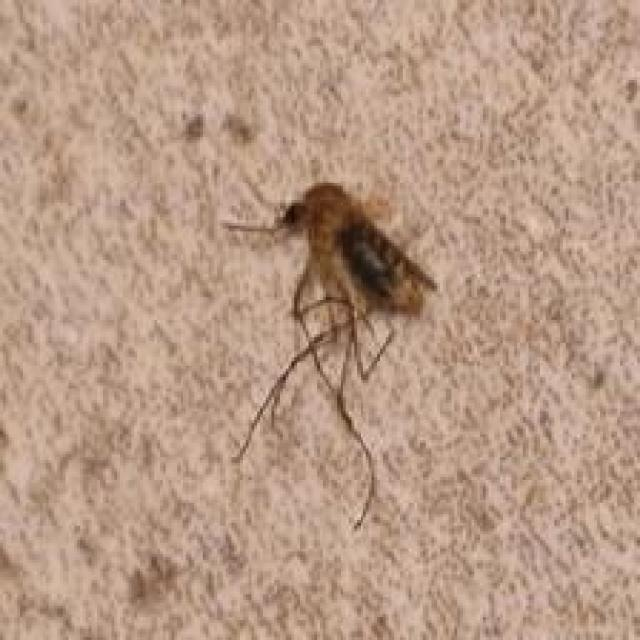Culex: (220, 180, 440, 531)
